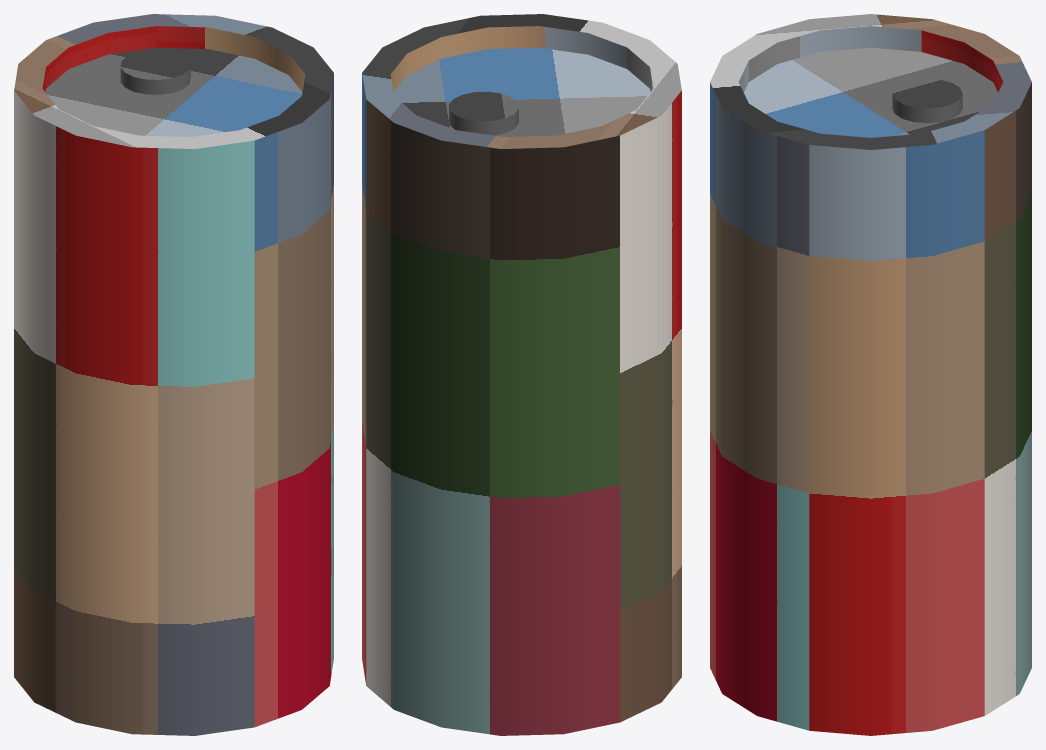
Rendered from EnergyDrink.fbx.
3 views of the same model, side by side, from view 1: azimuth 30°, elevation 25°; view 2: azimuth 150°, elevation 25°; view 3: azimuth 270°, elevation 25° (orthographic).
Parts seen in each view (by area): view 1: Cylinder; view 2: Cylinder; view 3: Cylinder.
Part boxes in pixels (x1=…): Cylinder: x1=14, y1=14, x2=333, y2=735; Cylinder: x1=362, y1=14, x2=681, y2=735; Cylinder: x1=710, y1=14, x2=1031, y2=735.
Size of the model in its own units: 34.01 by 68.29 by 34.01.
